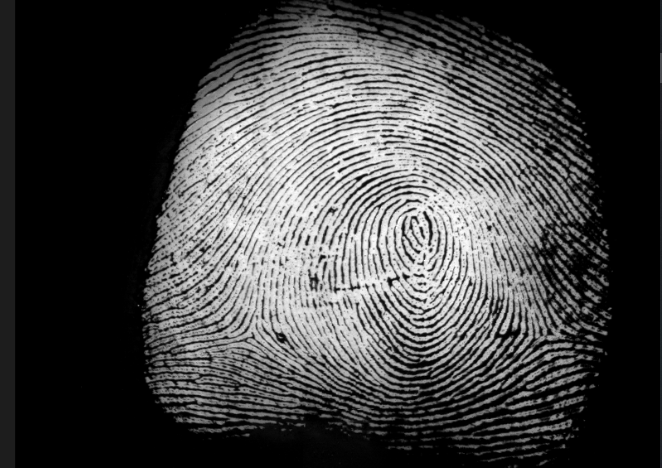nucelo: (410, 216, 428, 243)
verticilo: (532, 322, 558, 344), (244, 317, 260, 341)
